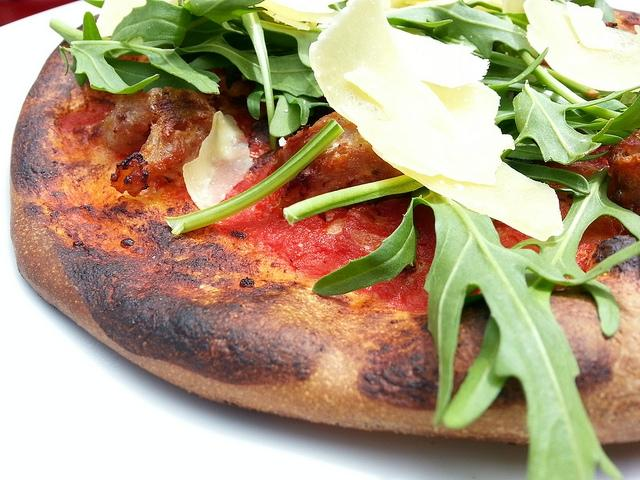lettuce: (312, 188, 639, 478), (500, 79, 640, 165), (385, 0, 541, 60), (240, 12, 276, 150), (112, 1, 192, 48), (180, 14, 232, 46), (484, 62, 524, 79)
